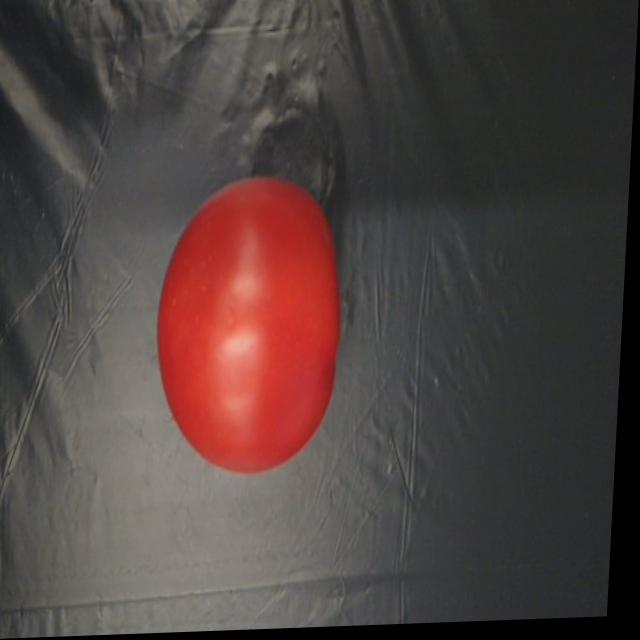kirmizi: (160, 171, 350, 481)
